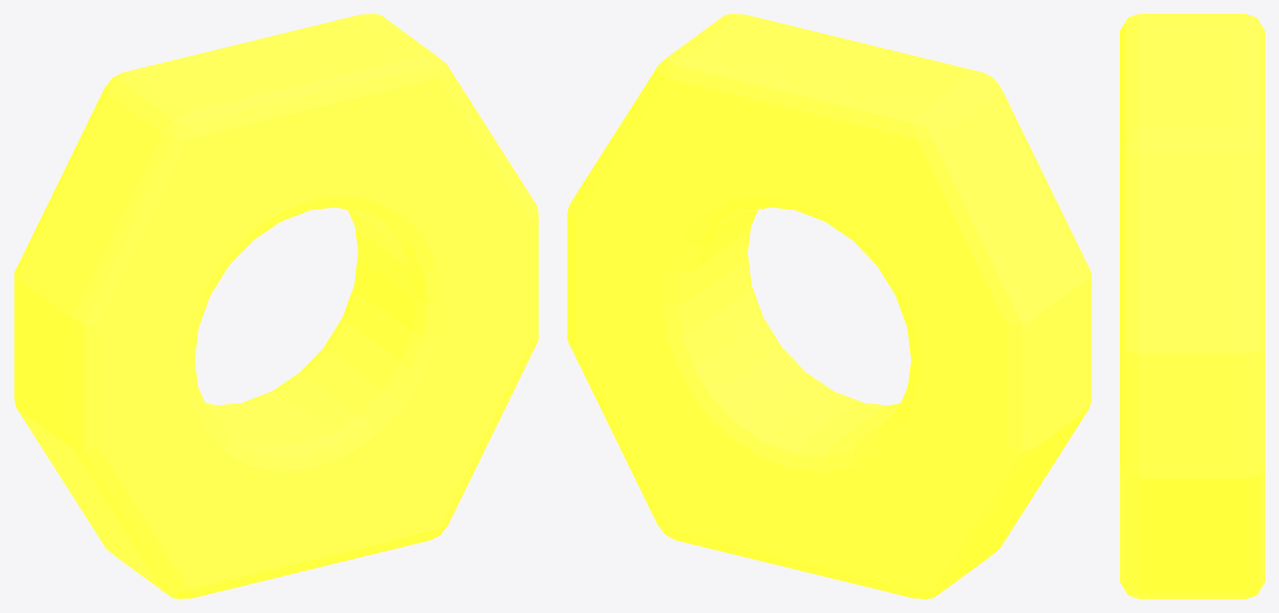
File: prop_hex_nut.glb
3 views of the same model, side by side, from view 1: azimuth 30°, elevation 25°; view 2: azimuth 150°, elevation 25°; view 3: azimuth 270°, elevation 25° (orthographic). The views are drawn at different scales.
Visible parts, largest first — view 1: prop_hex_nut; view 2: prop_hex_nut; view 3: prop_hex_nut.
Part boxes in pixels (x1,y1,x2,y2): prop_hex_nut: (14,14,538,598); prop_hex_nut: (567,14,1091,598); prop_hex_nut: (1120,14,1264,598).
Bounding box in the file's own units: 0.5 × 0.5 × 0.14.
